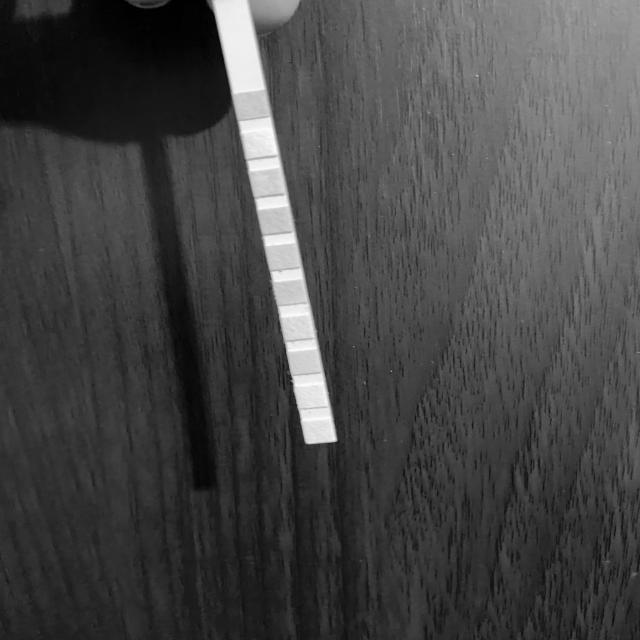Bilirubin: (247, 135, 271, 155)
Blood: (270, 248, 294, 267)
Glucose: (238, 95, 264, 115)
Ketone: (255, 172, 279, 192)
Leukocytes: (306, 422, 330, 441)
Nitrite: (299, 387, 322, 405)
Protein: (286, 320, 308, 336)
SpGravity: (262, 212, 288, 230)
Urobilinogen: (294, 354, 316, 371)
background: (0, 0, 640, 640)
pH: (280, 283, 302, 301)
strip: (215, 1, 337, 446)
